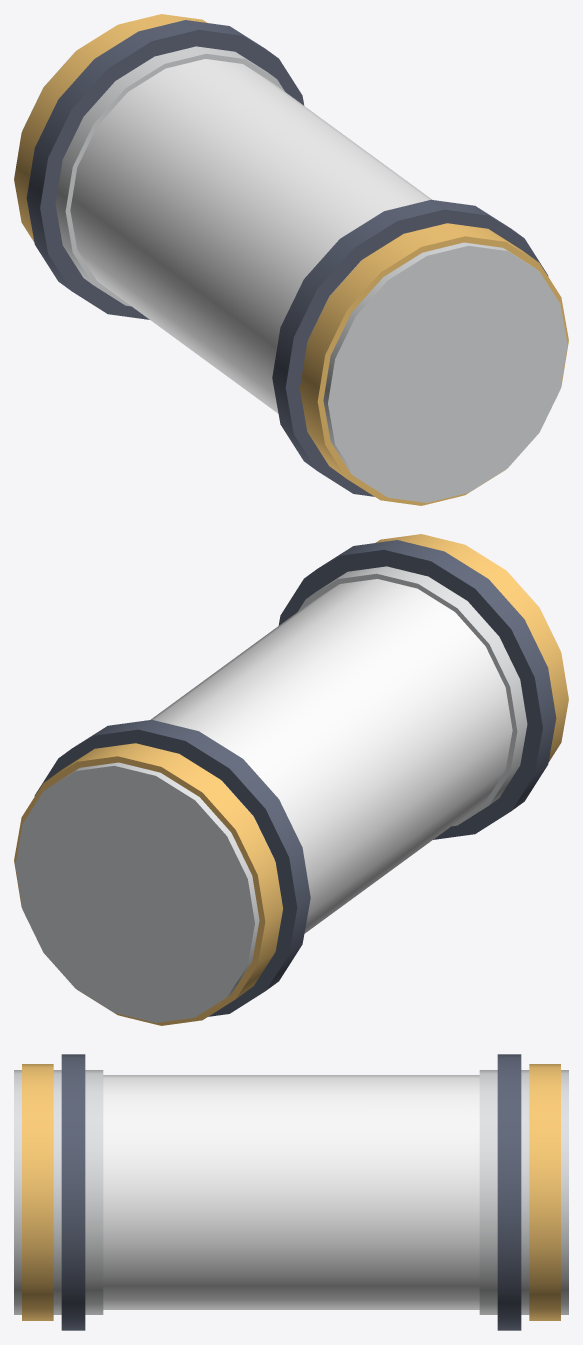
3 renders of one model, top to bottom at view 1: azimuth 30°, elevation 25°; view 2: azimuth 150°, elevation 25°; view 3: azimuth 270°, elevation 25°, orthographic. The views are drawn at different scales.
Visible parts, largest first — view 1: capsule; view 2: capsule; view 3: capsule.
Part boxes in pixels (x1,y1,x2,y2): capsule: [14, 14, 568, 505]; capsule: [14, 534, 568, 1025]; capsule: [14, 1054, 568, 1330].
Size of the model in its own units: 0.14 by 0.1379 by 0.28.
